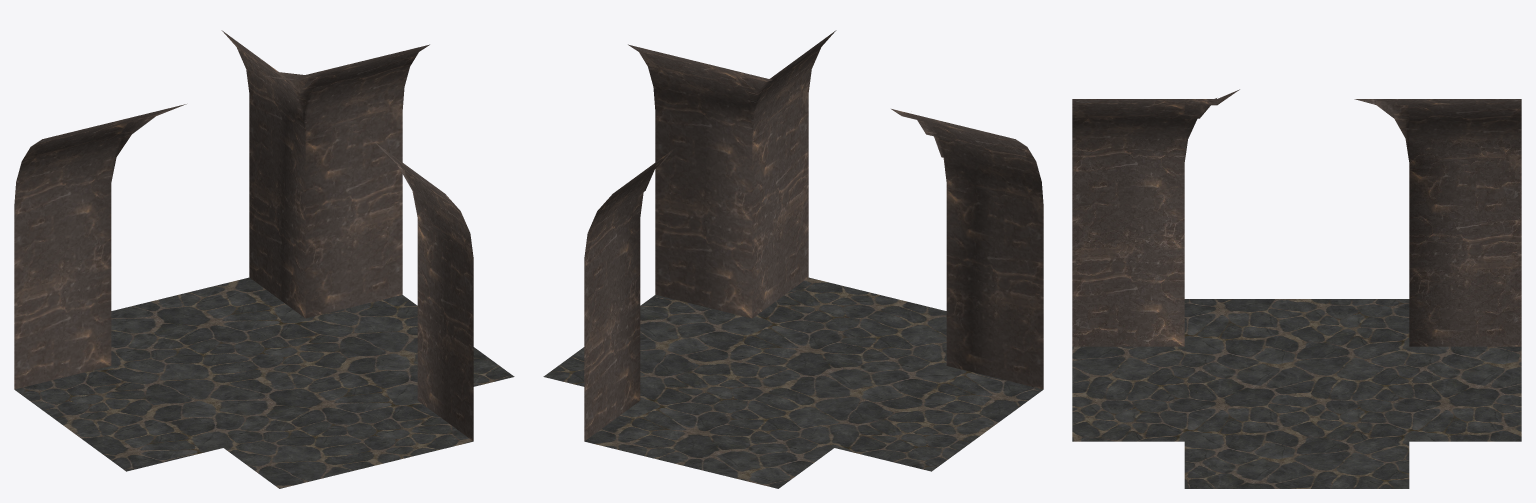
The model's file is hall-cross.gltf.
The picture shows the model from 3 angles, left to right: view 1: azimuth 30°, elevation 25°; view 2: azimuth 150°, elevation 25°; view 3: azimuth 270°, elevation 25°; orthographic projection.
Visible parts, largest first — view 1: hall-cross-mesh; view 2: hall-cross-mesh; view 3: hall-cross-mesh.
Part boxes in pixels (x1,y1,x2,y2): hall-cross-mesh: [14, 30, 514, 488]; hall-cross-mesh: [543, 30, 1043, 488]; hall-cross-mesh: [1072, 89, 1521, 488].
Bounding box in the file's own units: 4 × 2.8 × 4.
2 materials, 2 textured.
